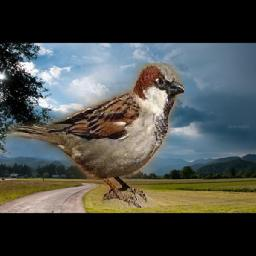Sparrow: (6, 64, 185, 209)
